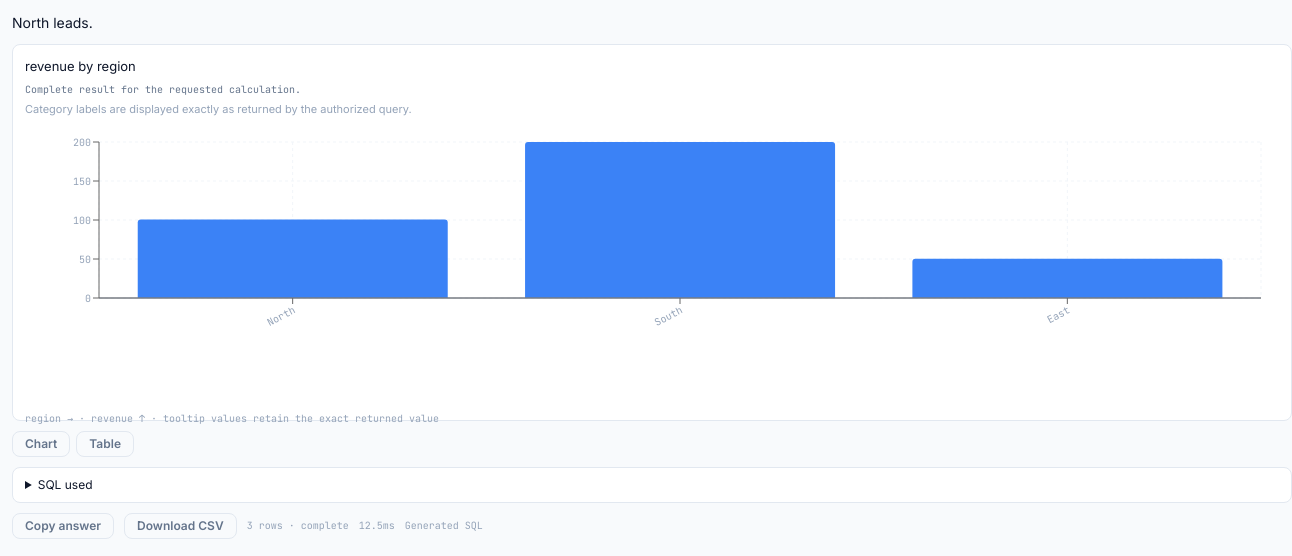
Test: AnswerView › puts the table behind a tab for a chart display and switches without another request
The image size is (1292, 556).
Click the tab "Table" at (105, 444), box 76,431 -> 134,457
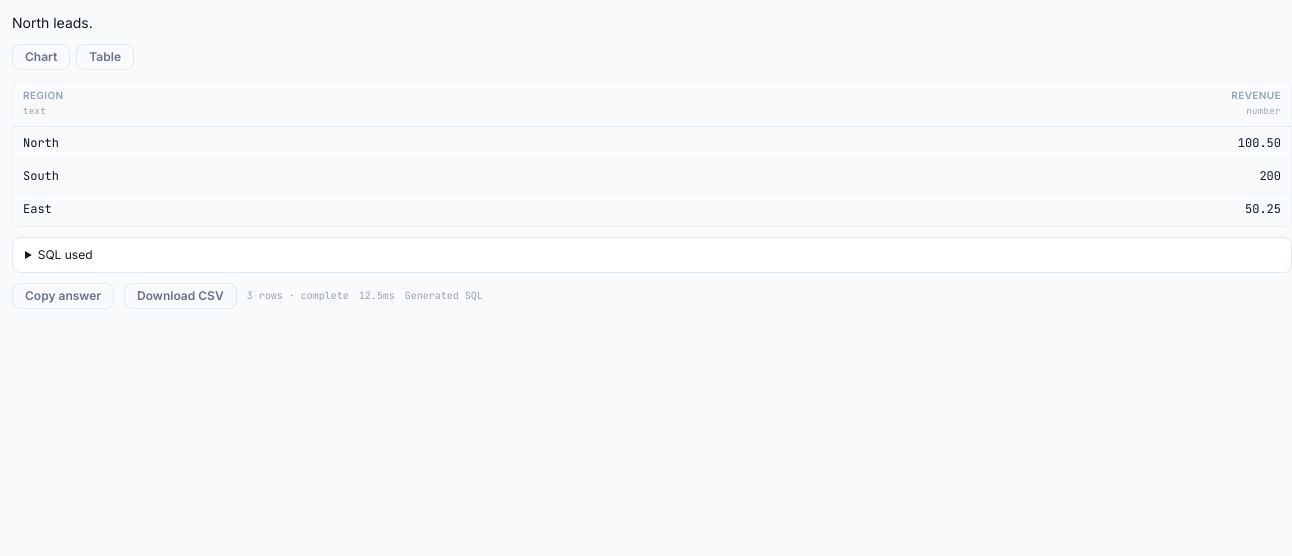
Check: the element named "Result table" is shown, box 12,80 -> 1291,227
Click the tab "Chart" at (41, 57), box 12,44 -> 70,70
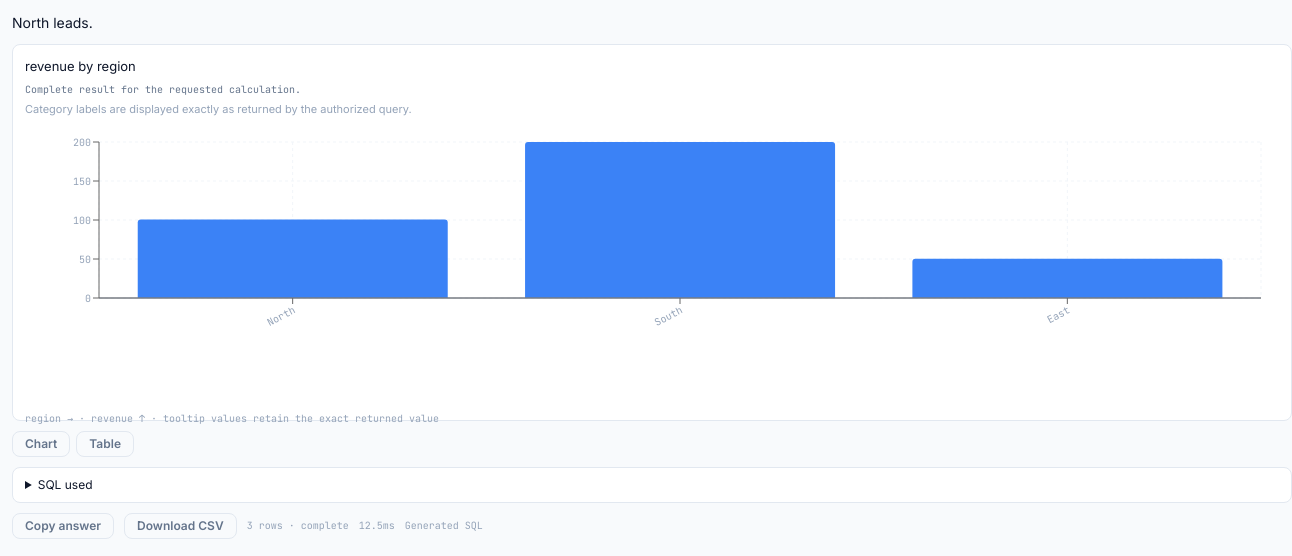
Check: the table "Result table" is gone
